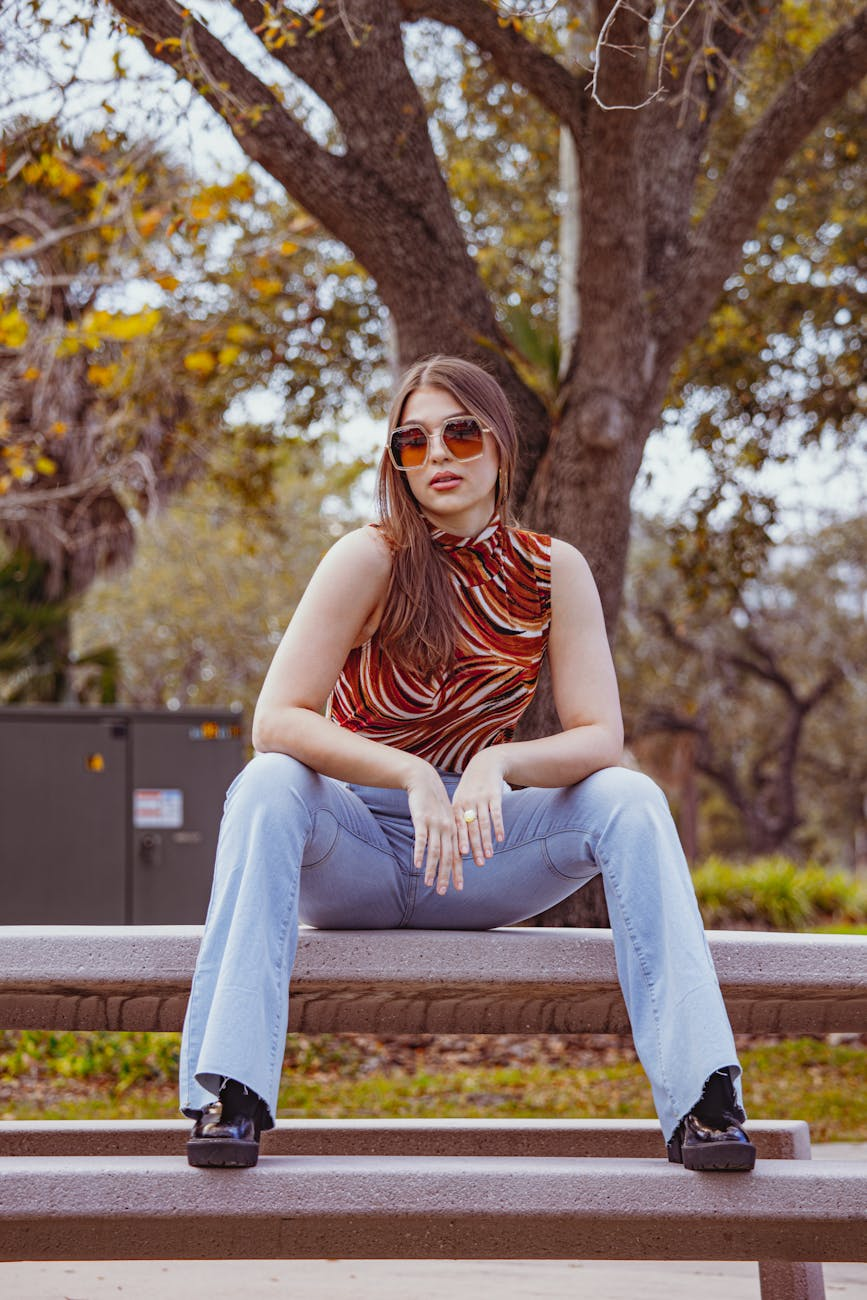sleeveless_top: (327, 516, 566, 755)
